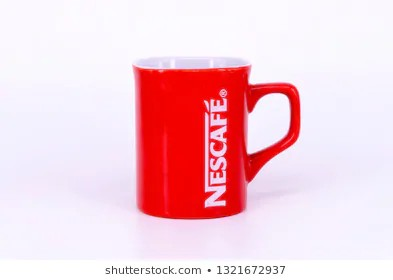nescafe-mug: (125, 53, 311, 221)
